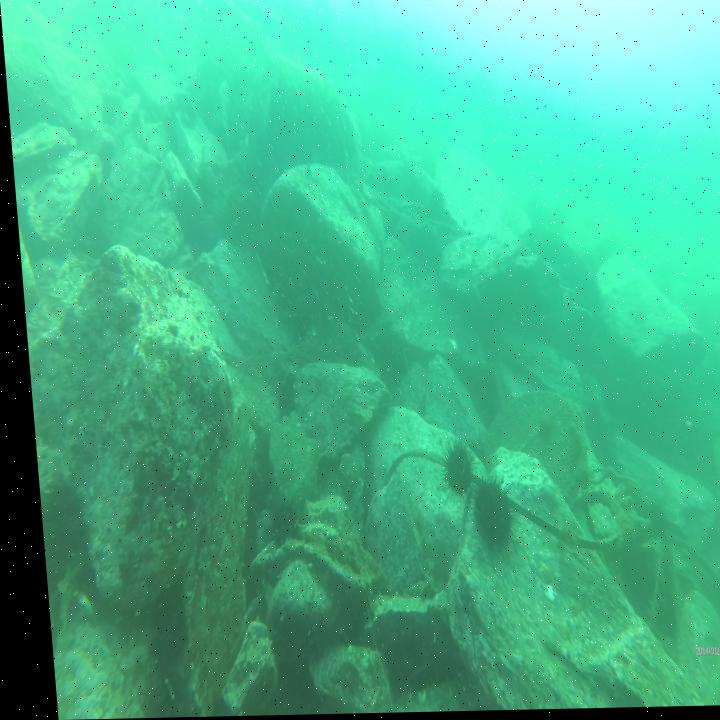echinus: (30, 469, 84, 585), (454, 470, 516, 556), (429, 437, 470, 505), (255, 502, 305, 551), (460, 433, 484, 475)
holothurian: (285, 520, 327, 539)
